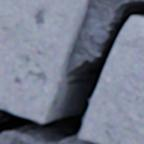brick: (0, 0, 90, 122), (79, 20, 143, 143)
crack: (0, 0, 143, 143)
